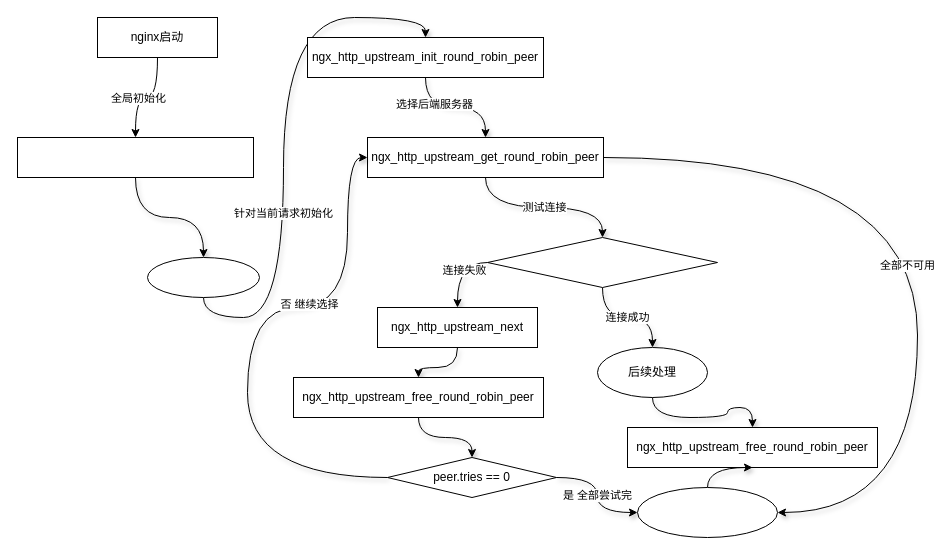
The diagram is 952 pixels wide and 555 high, and some of its shapes have lost their labels. The shapes that lost their labels are listed below. From the top down, each one's centre as x and y in pixels, then its label:
At [135,157]: "ngx_http_upstream_init_round_robin".
At [203,277]: "收到用户请求".
At [602,262]: "ngx_http_upstream_test_connect".
At [707,512]: "502 Bad Gateway".
